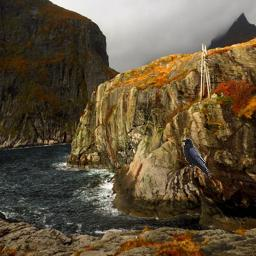Crow: (181, 138, 212, 178)
